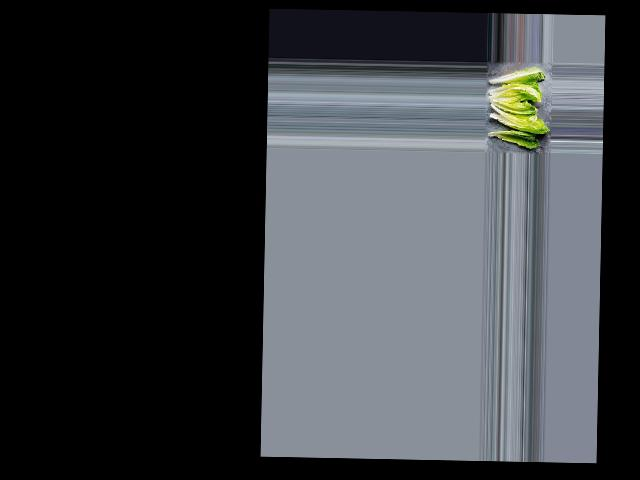lettuce: (485, 129, 539, 147)
